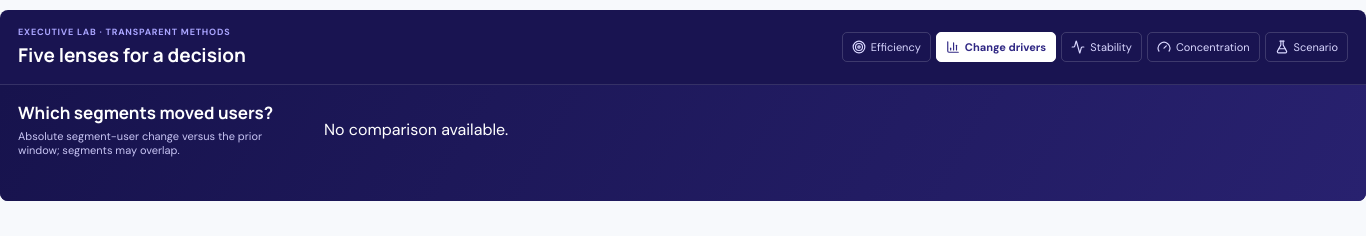
Test case: Bilingual lens presentation › caps executive conversion, purchasers and revenue together
Click the tab "Scenario" at [1306, 47], box [1264, 32, 1348, 62]
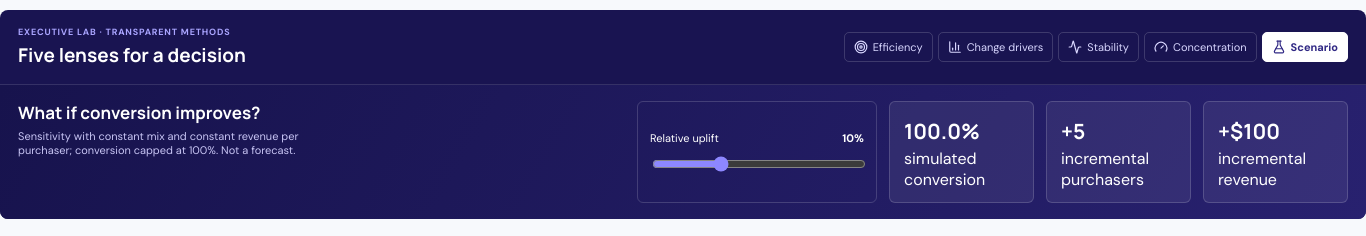
Now the text "simulated conversion" is shown, box [904, 148, 985, 190]
Now the text "incremental purchasers" is shown, box [1061, 148, 1149, 190]
Now the text "incremental revenue" is shown, box [1218, 148, 1306, 190]
